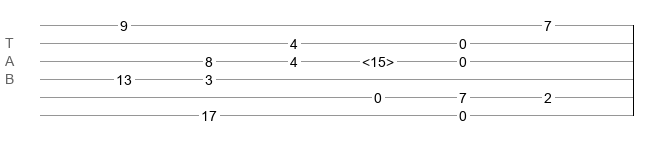0: (374, 90, 382, 100), (459, 36, 467, 46), (459, 108, 467, 118), (459, 54, 467, 64)
13: (116, 72, 132, 82)
17: (201, 108, 217, 118)
2: (544, 90, 552, 100)
3: (205, 72, 213, 82)
4: (290, 36, 298, 46), (290, 54, 298, 64)
7: (459, 90, 467, 100), (544, 18, 552, 28)
8: (205, 54, 213, 64)
9: (120, 18, 128, 28)
harmonic: (362, 54, 394, 64)
